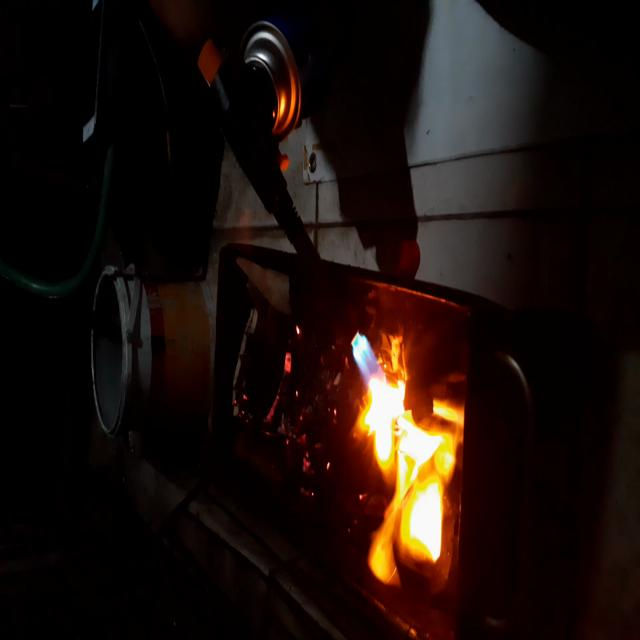Fire: (344, 322, 463, 602), (260, 344, 325, 498)
